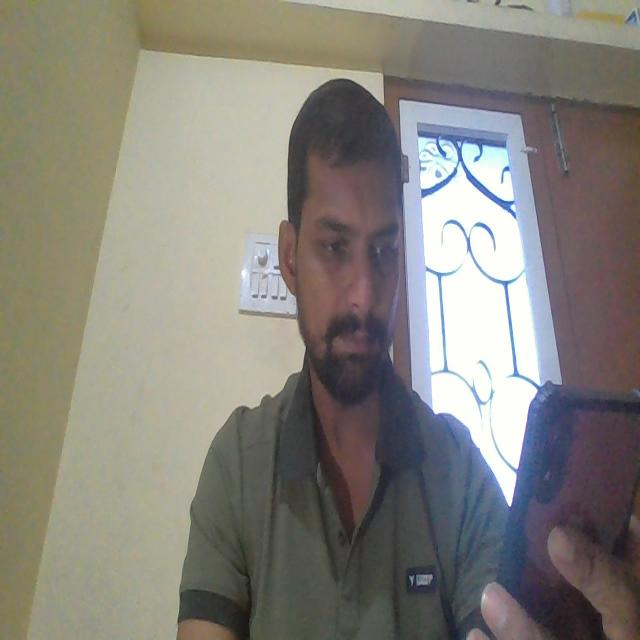phone: (512, 379, 640, 553), (514, 544, 529, 546)
